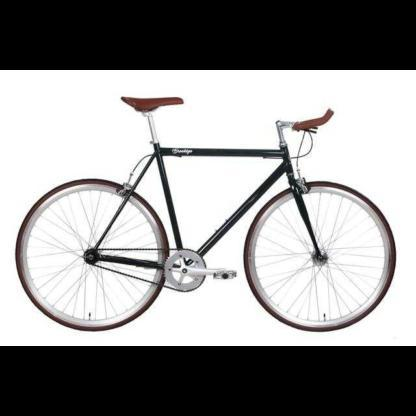Bicycle: (5, 84, 407, 339)
